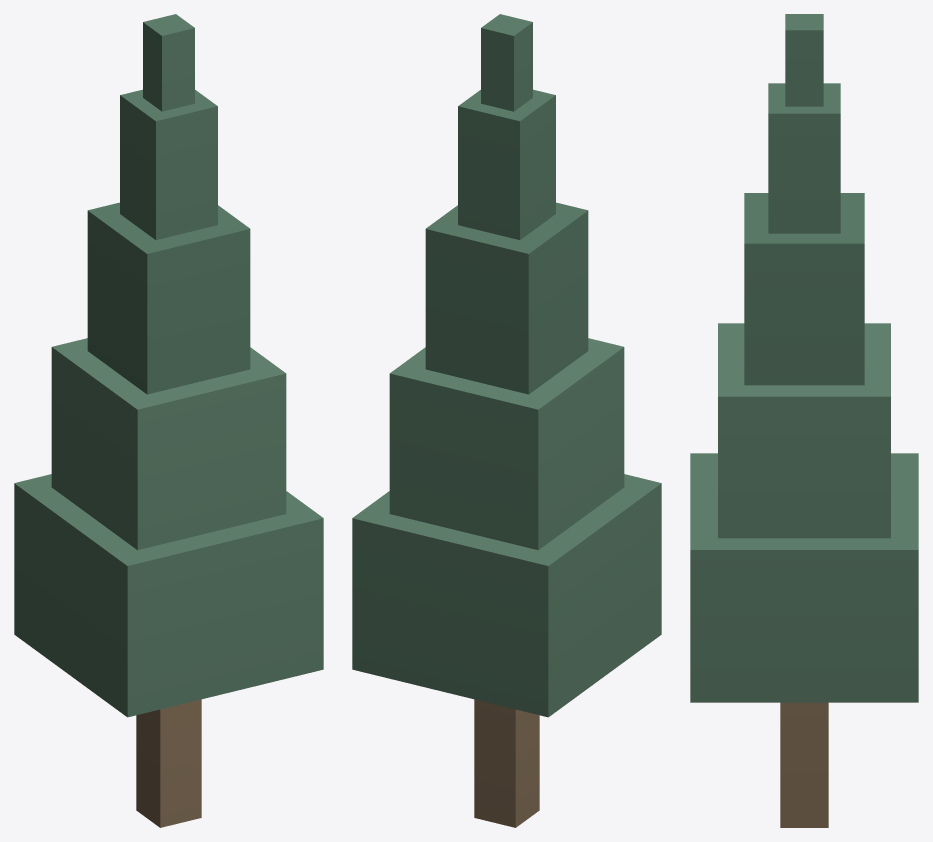
The model's file is tree_pine_tall.glb.
3 renders of one model, left to right at view 1: azimuth 30°, elevation 25°; view 2: azimuth 150°, elevation 25°; view 3: azimuth 270°, elevation 25°, orthographic.
Parts seen in each view (by area): view 1: root; view 2: root; view 3: root.
Boxes of the visible parts, left/top/right/bottom form: root: left=14, top=14, right=323, bottom=827; root: left=352, top=14, right=661, bottom=827; root: left=690, top=14, right=918, bottom=827.
Bounding box in the file's own units: 0.95 × 3.65 × 0.95.
